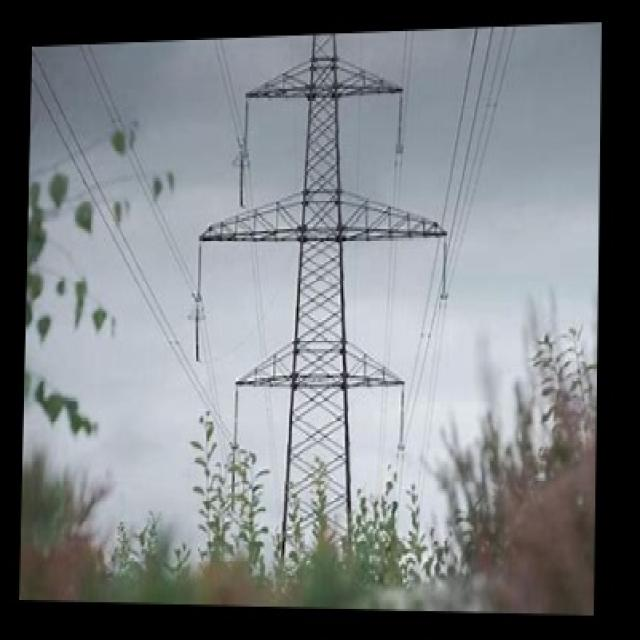utility poles: (174, 364, 477, 596)
